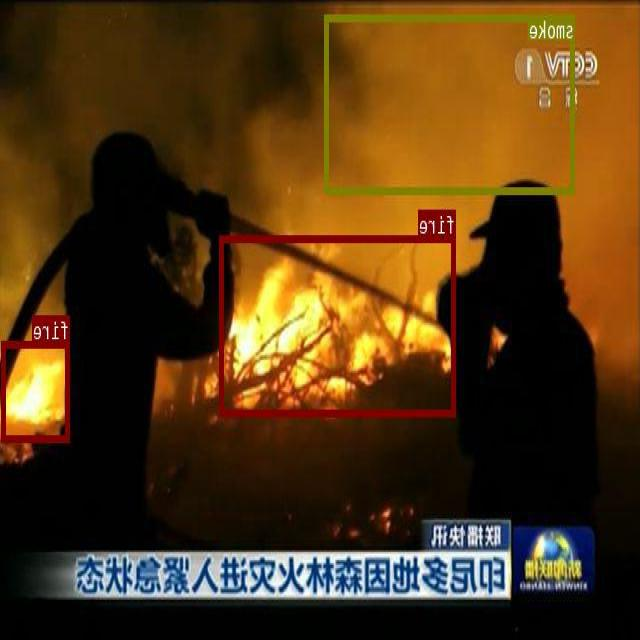fire: (220, 234, 457, 415), (2, 340, 70, 440)
smoke: (326, 14, 576, 192)
